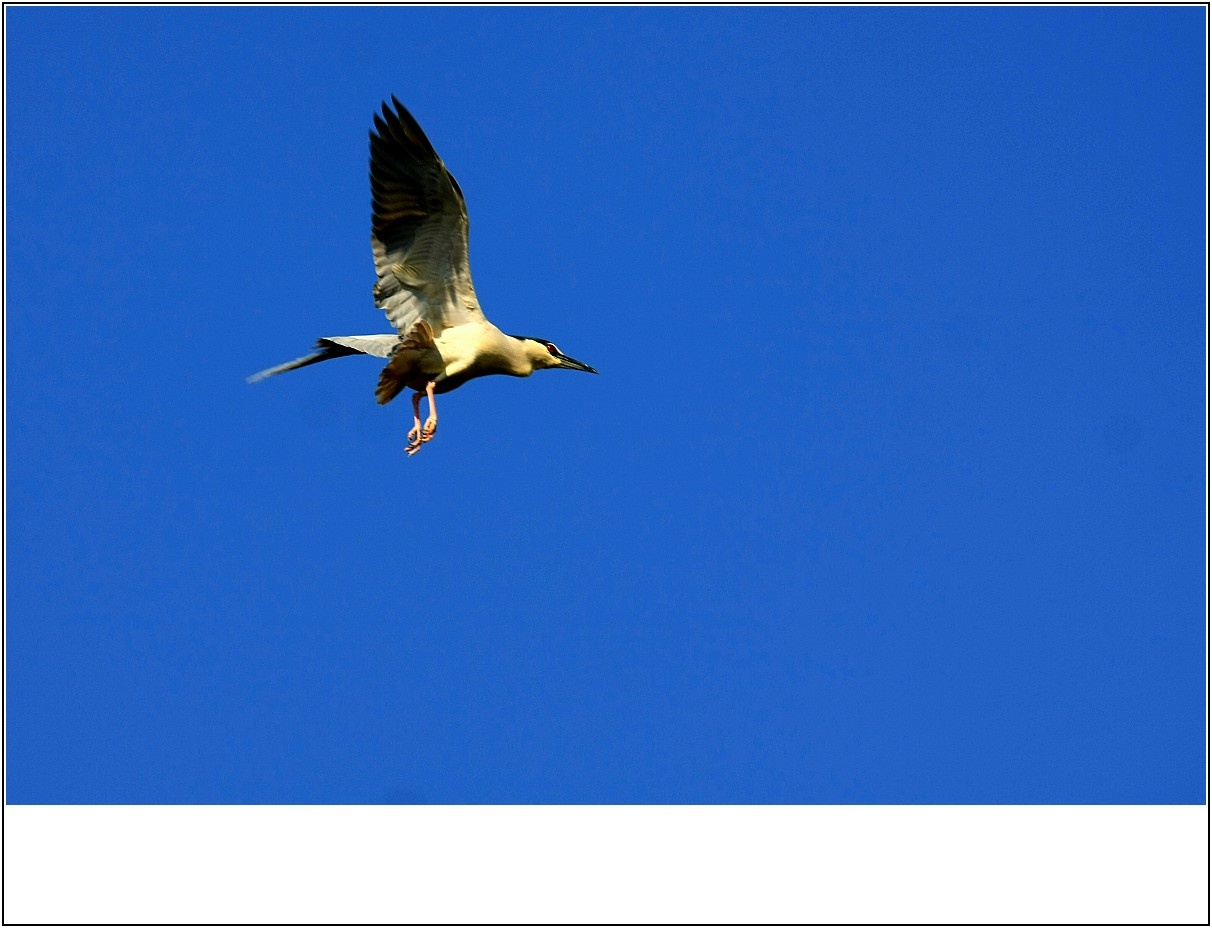bird: (228, 89, 606, 459)
